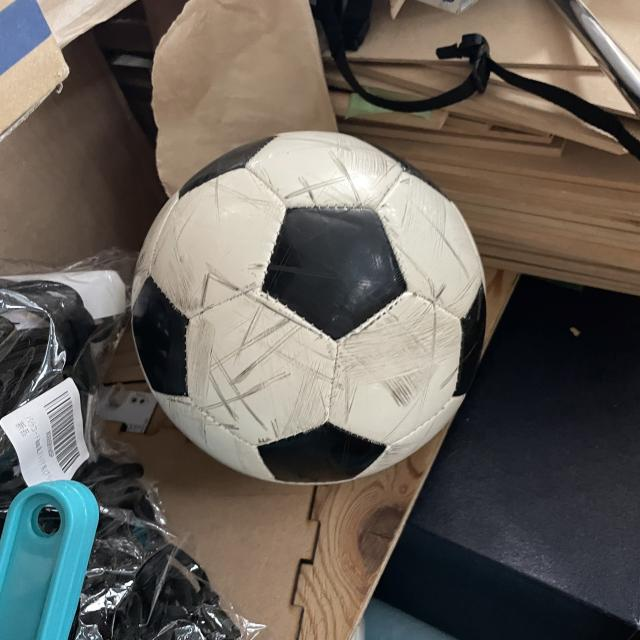ball: (128, 134, 490, 486)
